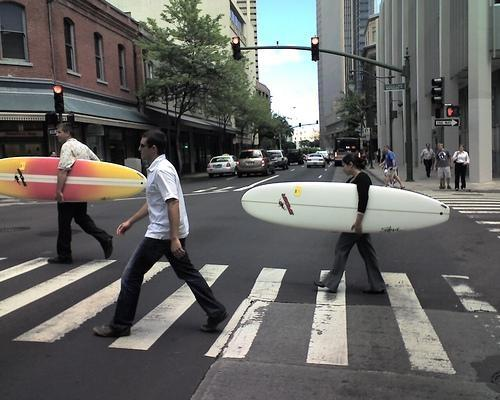bus: (334, 137, 360, 166)
car: (236, 150, 276, 174), (207, 156, 238, 178), (266, 149, 290, 170), (286, 148, 304, 166), (306, 154, 326, 168), (314, 150, 330, 160)
